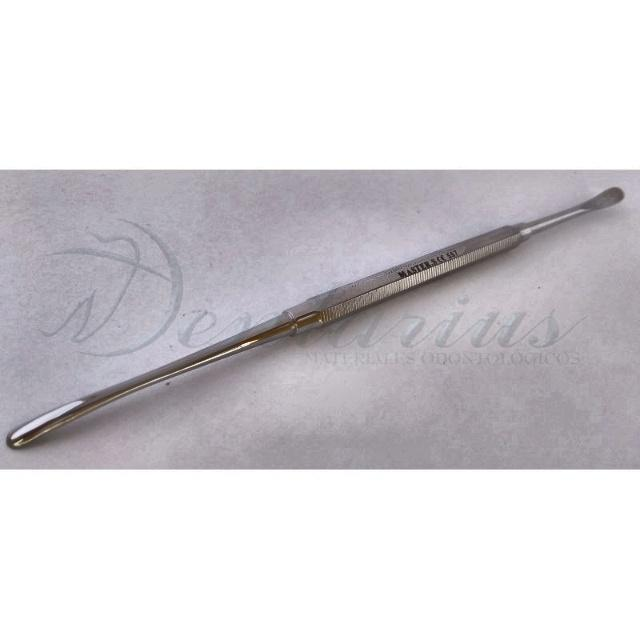elevador: (7, 189, 626, 453)
